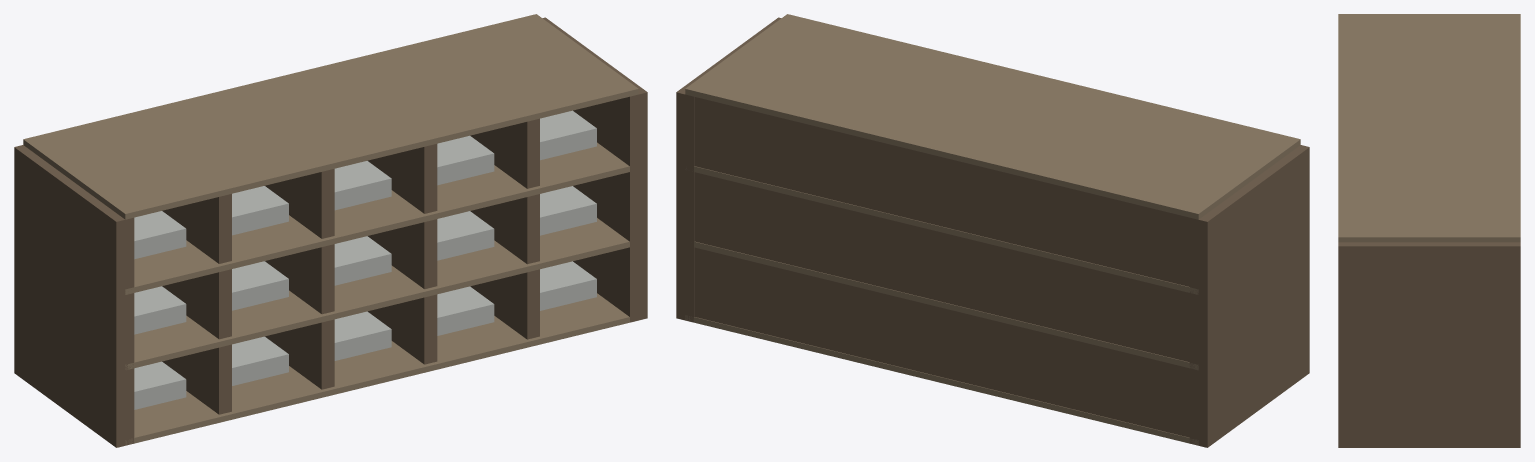
File: mail_sorting_rack.glb
3 views of the same model, side by side, from view 1: azimuth 30°, elevation 25°; view 2: azimuth 150°, elevation 25°; view 3: azimuth 270°, elevation 25° (orthographic). The views are drawn at different scales.
Visible parts, largest first — view 1: mail_sorting_rack; view 2: mail_sorting_rack; view 3: mail_sorting_rack.
Part boxes in pixels (bbox=[...]): mail_sorting_rack: bbox=[14, 14, 647, 447]; mail_sorting_rack: bbox=[676, 14, 1309, 447]; mail_sorting_rack: bbox=[1338, 14, 1520, 447].
Bounding box in the file's own units: 2.88 × 1.2 × 0.96.
